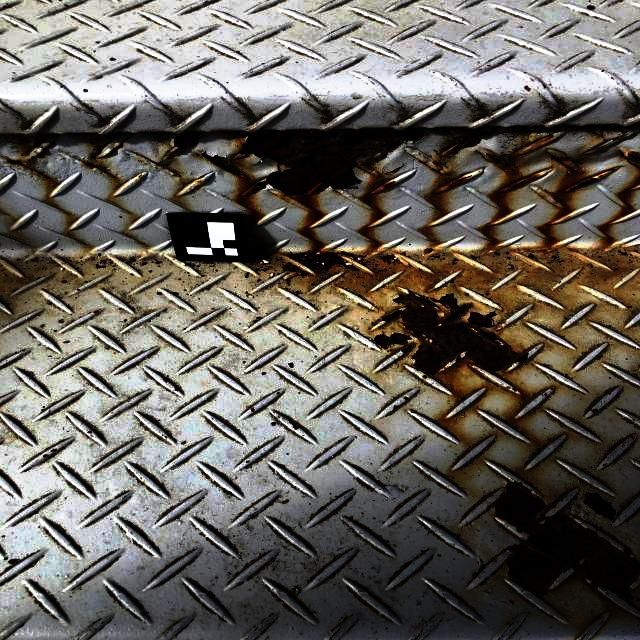Corrosion: (197, 128, 426, 215), (492, 479, 640, 609), (371, 287, 534, 380), (549, 158, 615, 203), (578, 488, 619, 522), (449, 131, 492, 155), (497, 173, 539, 195), (171, 131, 205, 155), (483, 151, 517, 172), (4, 158, 40, 175), (438, 174, 473, 190), (618, 149, 640, 172), (369, 178, 397, 194), (81, 161, 90, 169)
